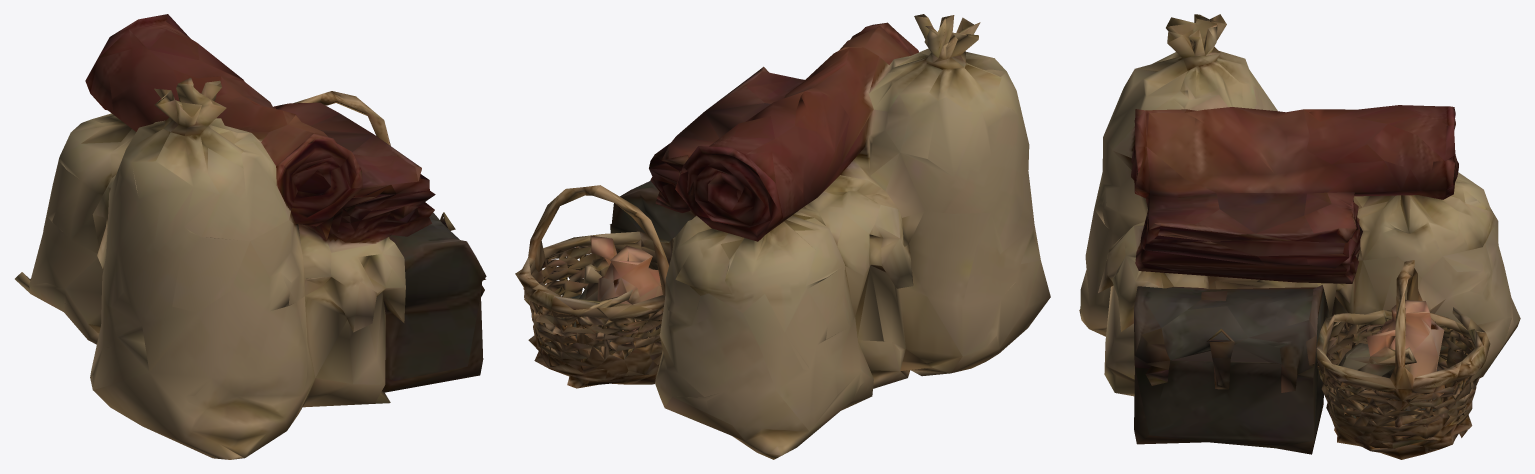
Rendered from caravan-baggage.glb.
3 renders of one model, left to right at view 1: azimuth 30°, elevation 25°; view 2: azimuth 150°, elevation 25°; view 3: azimuth 270°, elevation 25°, orthographic. The views are drawn at different scales.
Visible parts, largest first — view 1: tripo_node_261422e4-0f91-40fe-a0da-90ace23caba6; view 2: tripo_node_261422e4-0f91-40fe-a0da-90ace23caba6; view 3: tripo_node_261422e4-0f91-40fe-a0da-90ace23caba6.
Part boxes in pixels (box(x1,y1,x2,y2)): tripo_node_261422e4-0f91-40fe-a0da-90ace23caba6: box(15, 14, 486, 459); tripo_node_261422e4-0f91-40fe-a0da-90ace23caba6: box(515, 14, 1050, 459); tripo_node_261422e4-0f91-40fe-a0da-90ace23caba6: box(1079, 14, 1520, 459).
Size of the model in its own units: 1.51 by 1.2 by 1.55.
1 material, 1 textured.
